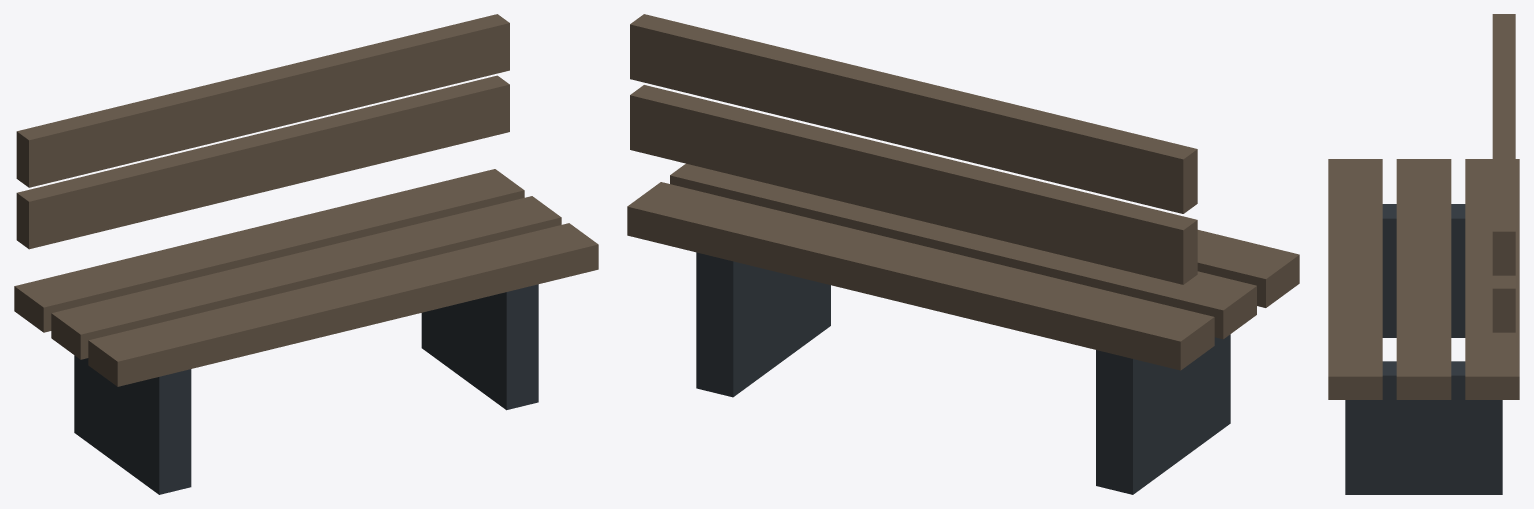
File: estate-bench.glb
3 views of the same model, side by side, from view 1: azimuth 30°, elevation 25°; view 2: azimuth 150°, elevation 25°; view 3: azimuth 270°, elevation 25° (orthographic). The views are drawn at different scales.
Parts seen in each view (by area): view 1: Back slat.001, Back slat, Seat slat, Seat slat.001, Seat slat.002, Bench support, Bench support.001; view 2: Back slat.001, Back slat, Seat slat.002, Seat slat.001, Bench support, Bench support.001, Seat slat; view 3: Bench support.001, Seat slat.001, Seat slat, Seat slat.002, Back slat.001, Bench support, Back slat.
Part boxes in pixels (x1,y1,x2,y2): Back slat.001: [16, 14, 509, 187]; Back slat: [16, 75, 509, 249]; Seat slat: [88, 223, 598, 386]; Seat slat.001: [51, 196, 561, 359]; Seat slat.002: [14, 169, 524, 332]; Bench support: [74, 355, 191, 494]; Bench support.001: [421, 284, 538, 410]; Back slat.001: [630, 14, 1197, 213]; Back slat: [630, 85, 1197, 284]; Seat slat.002: [627, 182, 1214, 370]; Seat slat.001: [670, 163, 1256, 339]; Bench support: [1096, 334, 1230, 494]; Bench support.001: [696, 252, 830, 397]; Seat slat: [1197, 230, 1299, 307]; Bench support.001: [1345, 361, 1502, 494]; Seat slat.001: [1396, 159, 1451, 399]; Seat slat: [1328, 159, 1382, 399]; Seat slat.002: [1465, 159, 1519, 399]; Back slat.001: [1492, 14, 1515, 275]; Bench support: [1382, 204, 1465, 337]; Back slat: [1492, 275, 1515, 332].
Bounding box in the file's own units: 1.8 × 1.1 × 0.67.
